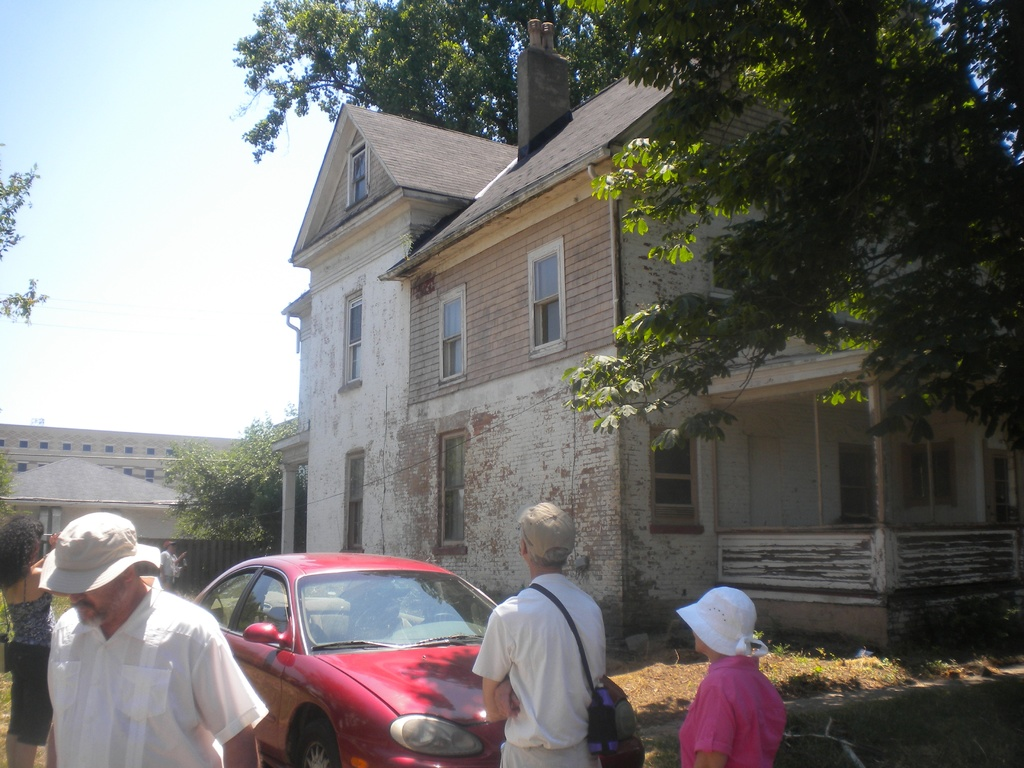Car: (246, 534, 653, 768)
